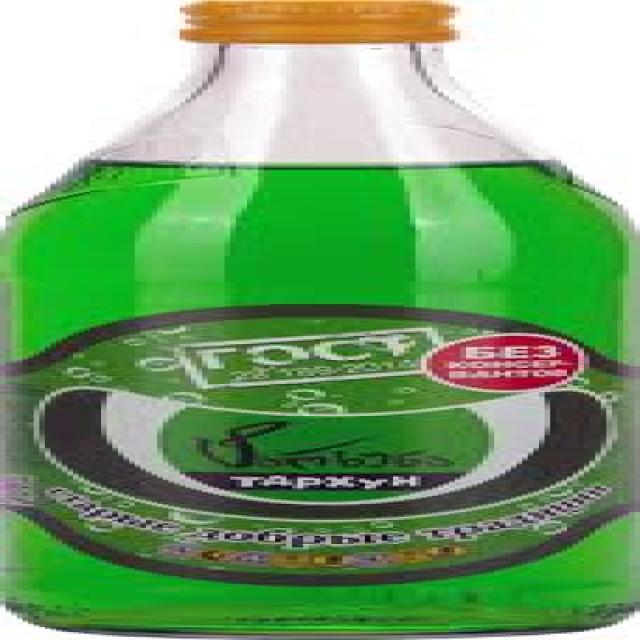glass: (0, 39, 634, 638)
metal: (180, 0, 444, 42)
